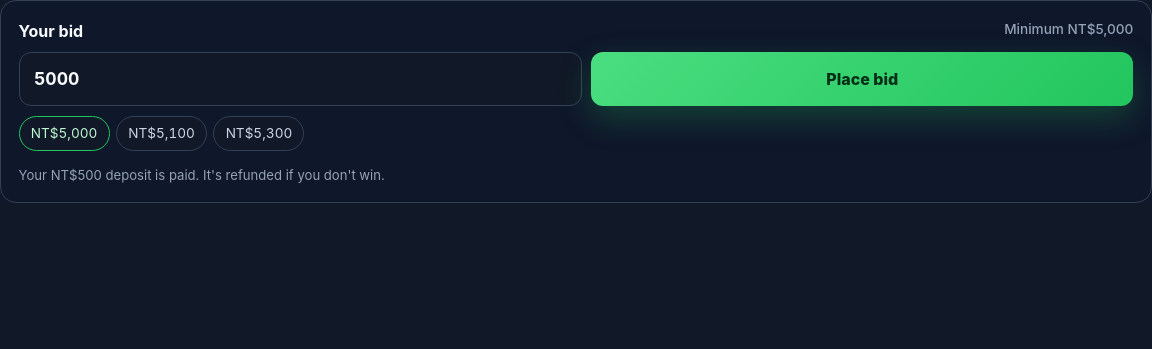
BidPanel › shows why the server refused a bid and reloads the auction
Click the button "Place bid": (862, 79) [591, 52, 1133, 106]
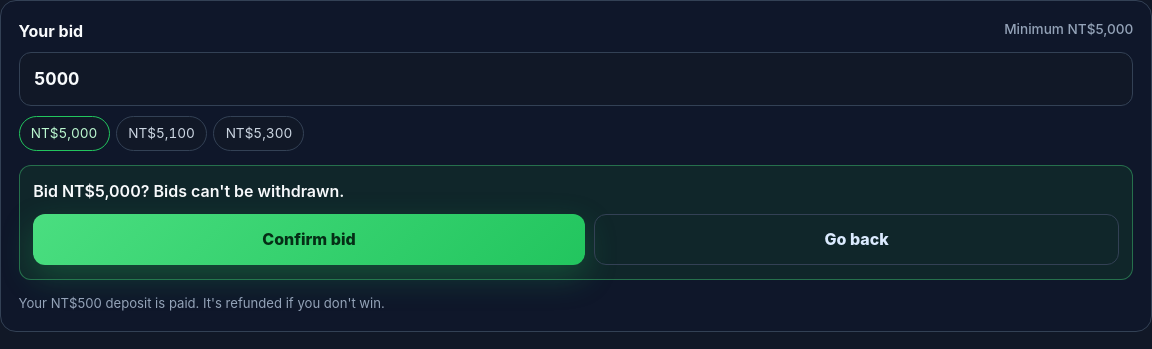
Click the button "Confirm bid": (309, 239) [33, 214, 585, 265]
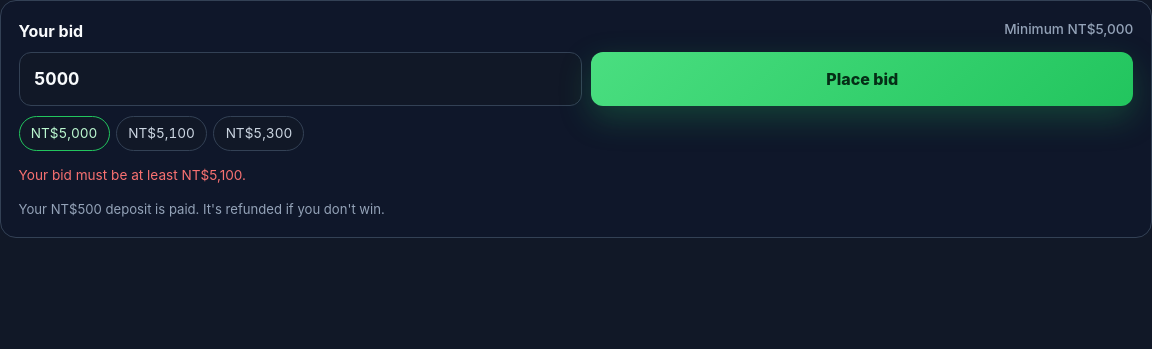
Check: the message reads "Your bid must be at least NT$5,100.", box [19, 166, 246, 182]
